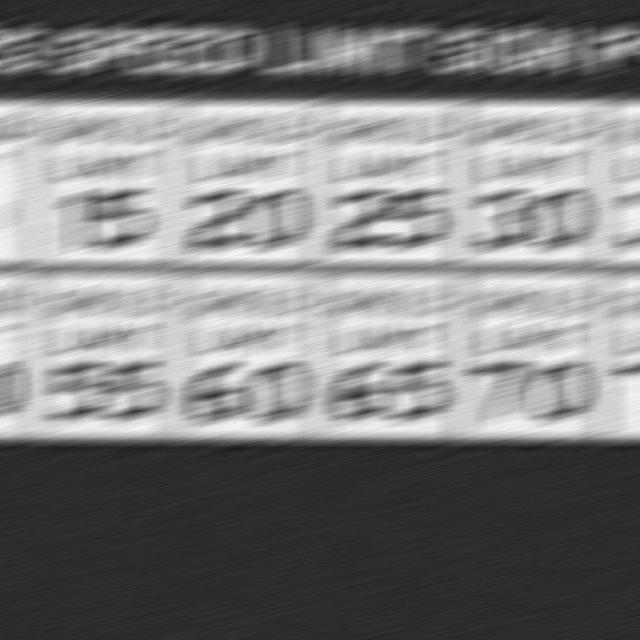speedLimit15: (36, 100, 175, 265)
speedLimit20: (177, 91, 322, 268)
speedLimit25: (315, 103, 459, 255)
speedLimit30: (462, 97, 600, 274)
speedLimit55: (30, 276, 175, 434)
speedLimit60: (174, 276, 319, 441)
speedLimit65: (315, 276, 466, 434)
speedLimit70: (462, 273, 600, 437)
